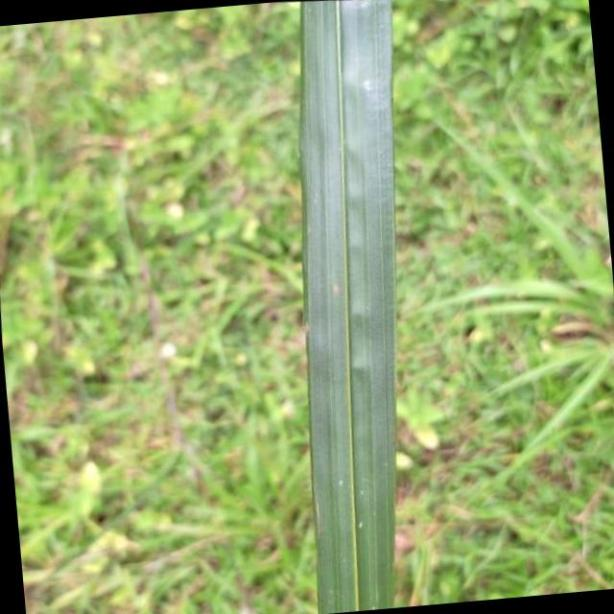Boron: (296, 0, 398, 614)
